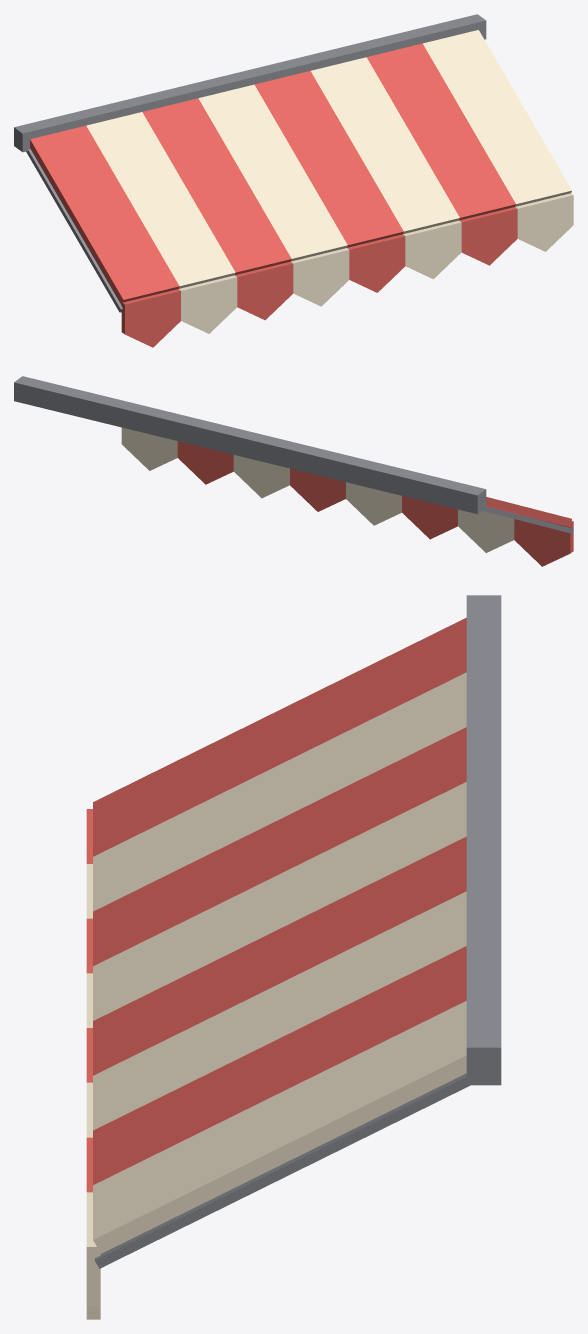
The model's file is prop_awning_bakery_01.glb.
3 renders of one model, top to bottom at view 1: azimuth 30°, elevation 25°; view 2: azimuth 150°, elevation 25°; view 3: azimuth 270°, elevation 25°, orthographic. The views are drawn at different scales.
Parts seen in each view (by area): view 1: prop_awning_bakery_01_body; view 2: prop_awning_bakery_01_body; view 3: prop_awning_bakery_01_body.
Part boxes in pixels (bbox=[...]): prop_awning_bakery_01_body: bbox=[14, 14, 573, 347]; prop_awning_bakery_01_body: bbox=[14, 376, 573, 566]; prop_awning_bakery_01_body: bbox=[86, 595, 501, 1319].
Size of the model in its own units: 3.1 by 0.98 by 1.2.
